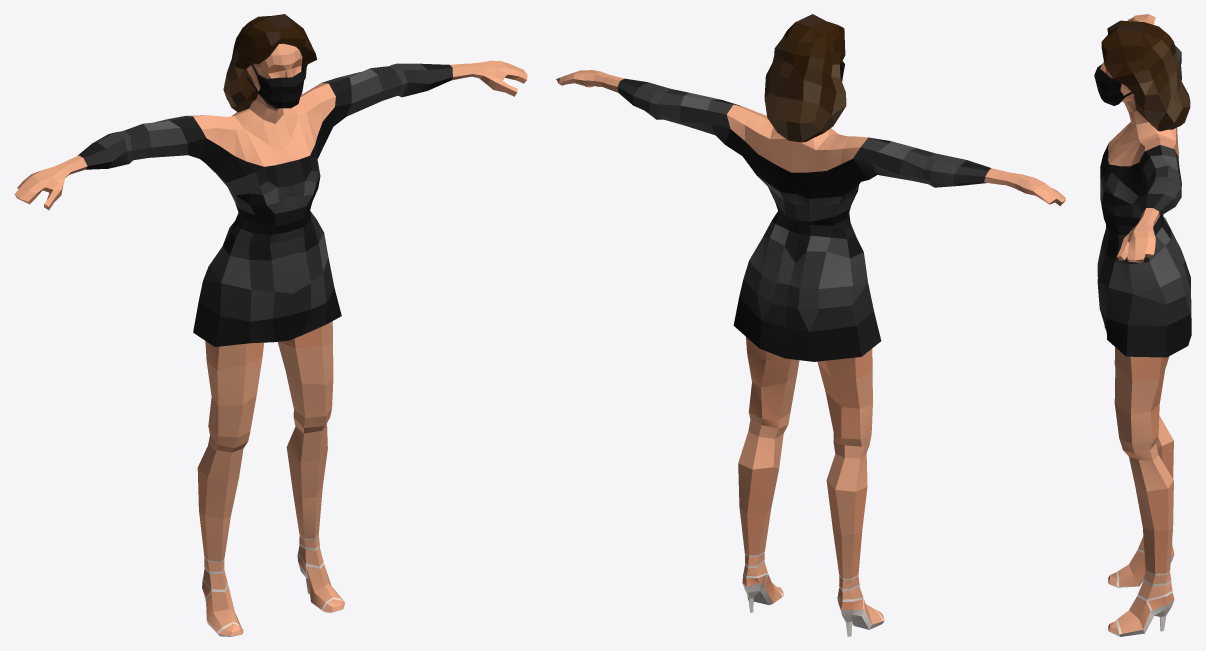
Rendered from night_Female_A-model.obj.
The picture shows the model from 3 angles, left to right: view 1: azimuth 30°, elevation 25°; view 2: azimuth 150°, elevation 25°; view 3: azimuth 270°, elevation 25°; orthographic projection. The views are drawn at different scales.
Parts seen in each view (by area): view 1: night_Female_A, acc_hair_med, acc_mask_black; view 2: night_Female_A, acc_hair_med; view 3: night_Female_A, acc_hair_med, acc_mask_black.
Boxes of the visible parts, x1=… form: night_Female_A: x1=14, y1=43, x2=527, y2=636; acc_hair_med: x1=223, y1=14, x2=316, y2=112; acc_mask_black: x1=247, y1=62, x2=305, y2=108; night_Female_A: x1=556, y1=70, x2=1065, y2=636; acc_hair_med: x1=764, y1=14, x2=846, y2=142; night_Female_A: x1=1097, y1=14, x2=1191, y2=636; acc_hair_med: x1=1101, y1=20, x2=1190, y2=131; acc_mask_black: x1=1094, y1=64, x2=1132, y2=105.
Bounding box in the file's own units: 153 × 171 × 25.9.
